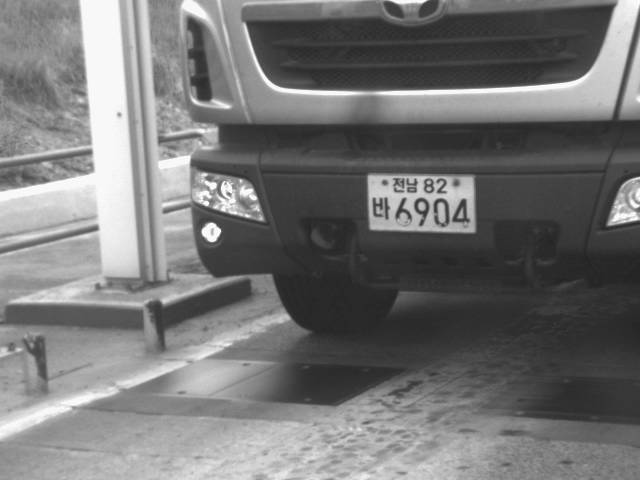car: (175, 1, 639, 334)
plate: (365, 172, 480, 235)
